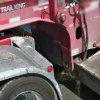Tractor: (6, 3, 96, 100)
